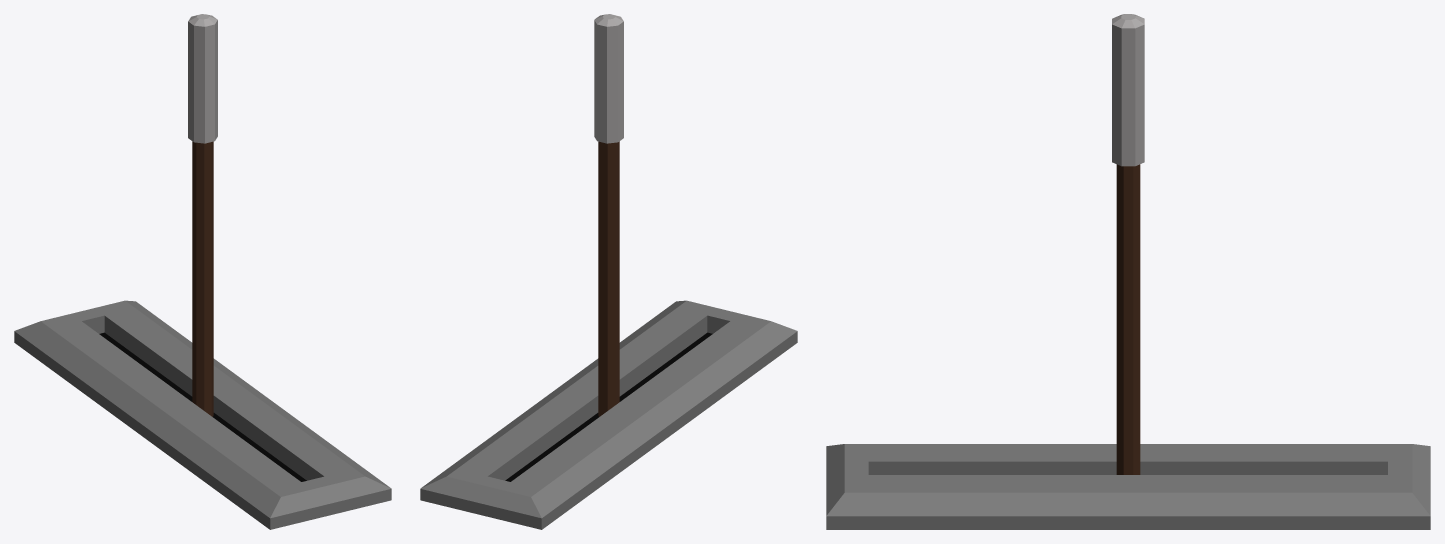
The model's file is StoneFloorLever_4.fbx.
3 views of the same model, side by side, from view 1: azimuth 30°, elevation 25°; view 2: azimuth 150°, elevation 25°; view 3: azimuth 270°, elevation 25° (orthographic). The views are drawn at different scales.
Parts seen in each view (by area): view 1: StoneFloorLever_4_Casing, StoneFloorLever_4_Handle; view 2: StoneFloorLever_4_Casing, StoneFloorLever_4_Handle; view 3: StoneFloorLever_4_Casing, StoneFloorLever_4_Handle.
Part boxes in pixels (<box>): StoneFloorLever_4_Casing: <box>14,300,391,529</box>; StoneFloorLever_4_Handle: <box>188,14,217,416</box>; StoneFloorLever_4_Casing: <box>420,300,797,529</box>; StoneFloorLever_4_Handle: <box>594,14,623,416</box>; StoneFloorLever_4_Casing: <box>826,444,1430,529</box>; StoneFloorLever_4_Handle: <box>1112,14,1144,474</box>.
Bounding box in the file's own units: 23.61 × 75.08 × 86.08.
